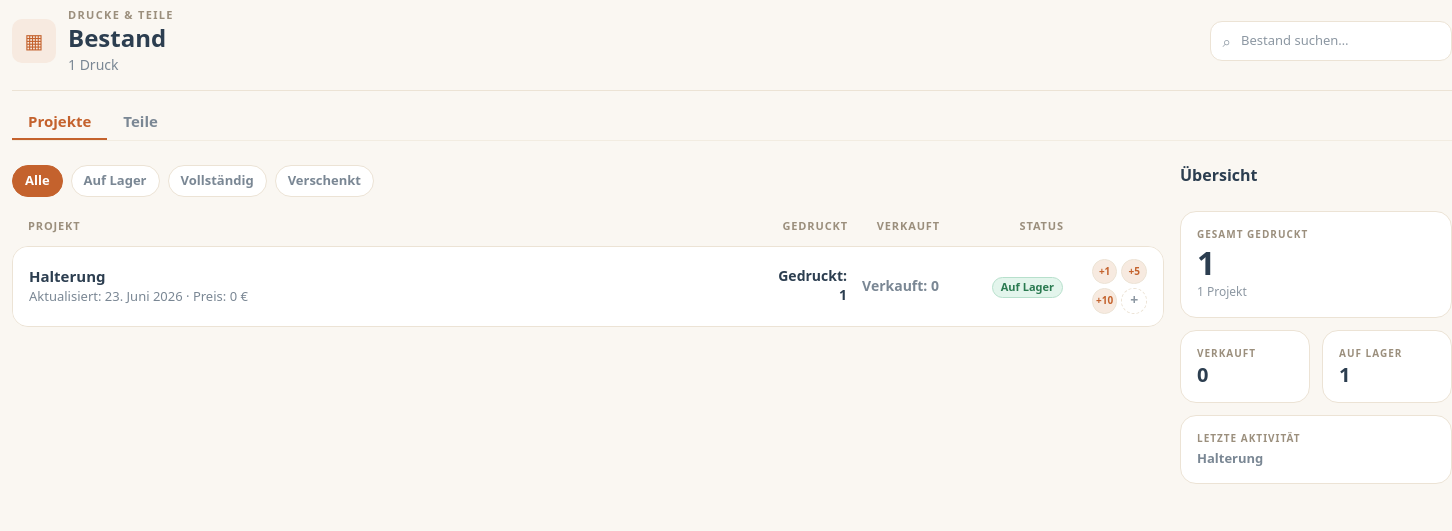
InventoryComponent › blocks print occurrence with German data error when stock deduction fails
What coordinates should you click on to do the following:
click the button with test id "inventory-record-print"
I would click on:
 (1105, 271)
Its box is [1092,258,1117,284].
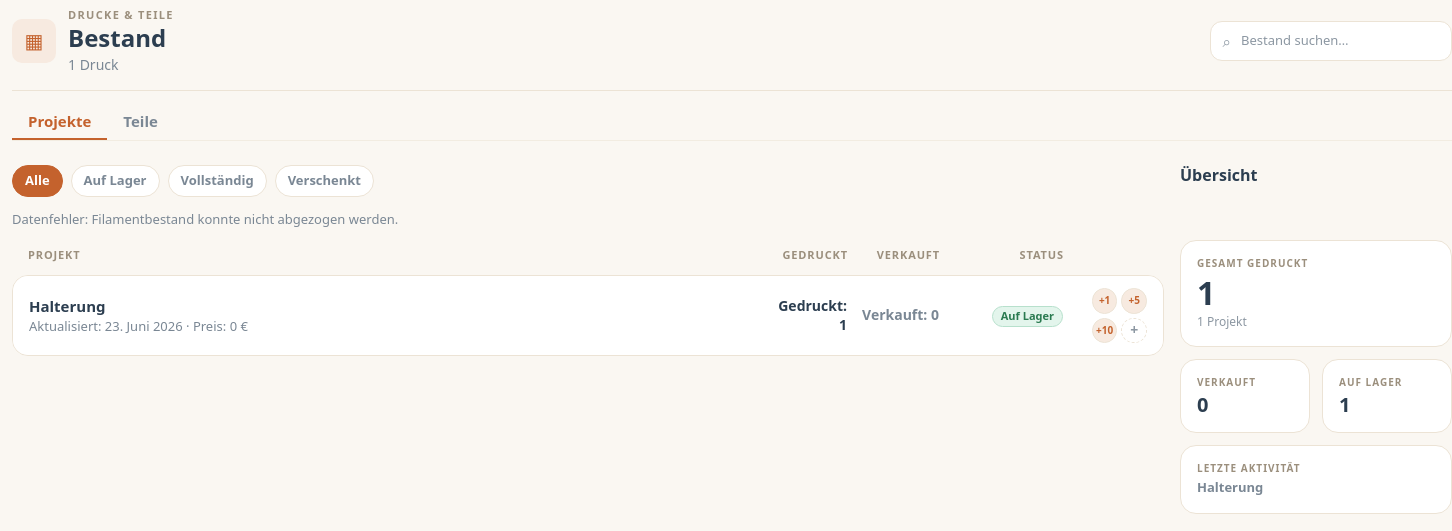
Expected: the text "Gedruckt: 1" is shown, [767,297,847,335]
Now the text "Datenfehler: Filamentbestand konnte nicht abgezogen werden." is shown, box [12,210,398,228]
